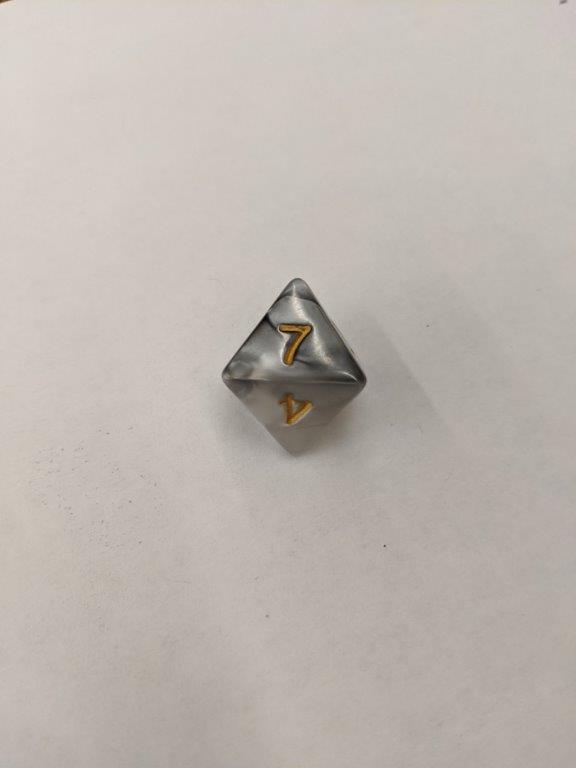d8-7: (220, 278, 367, 461)
